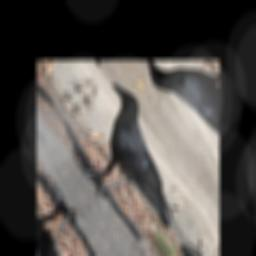Crow: (53, 74, 206, 253)
